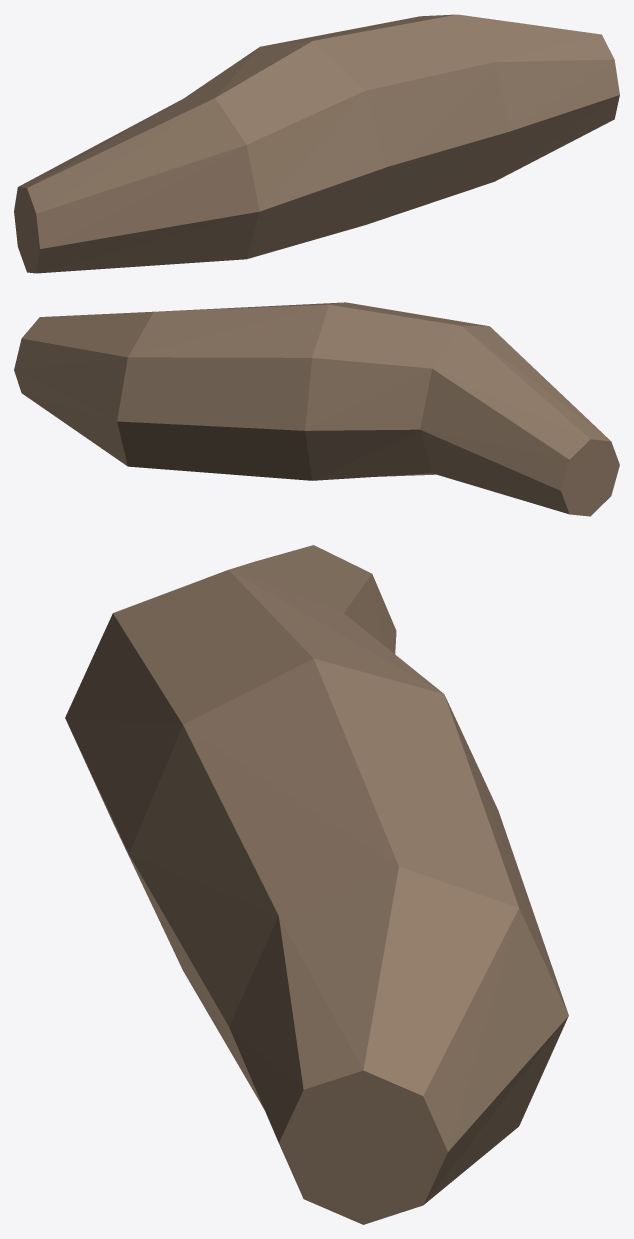
Rendered from wood.glb.
The picture shows the model from 3 angles, top to bottom: view 1: azimuth 30°, elevation 25°; view 2: azimuth 150°, elevation 25°; view 3: azimuth 270°, elevation 25°; orthographic projection. The views are drawn at different scales.
Bounding box in the file's own units: 1.79 × 0.57 × 0.7093.
